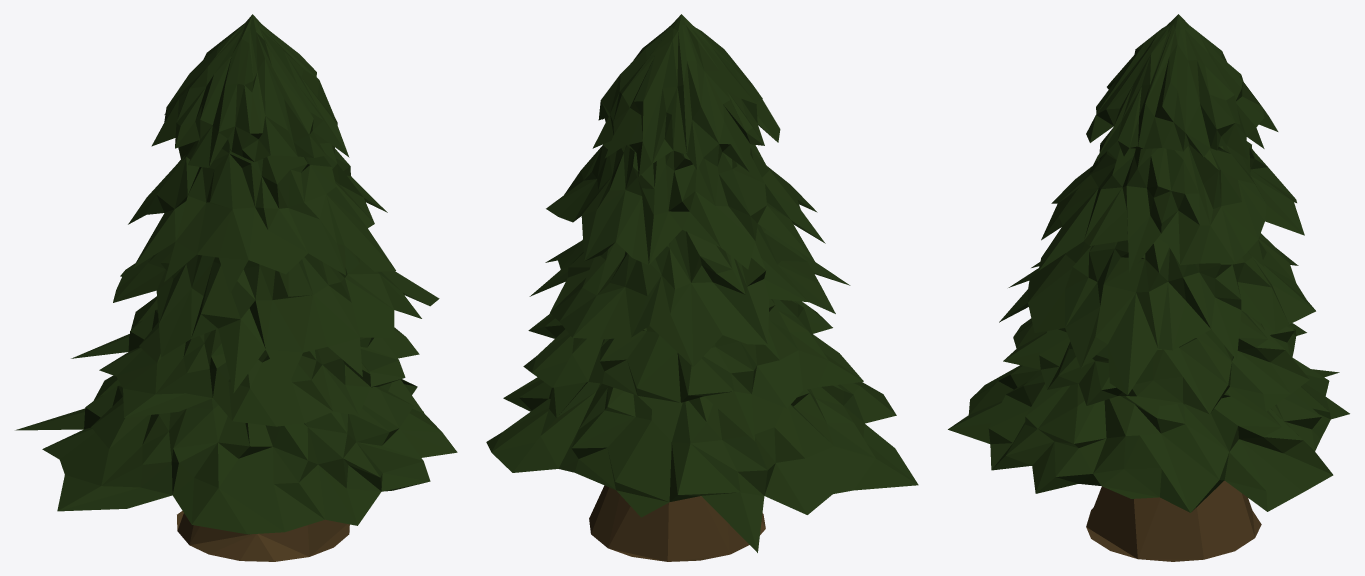
The model's file is pino-3_lowpoly.fbx.
3 renders of one model, left to right at view 1: azimuth 30°, elevation 25°; view 2: azimuth 150°, elevation 25°; view 3: azimuth 270°, elevation 25°, orthographic.
Visible parts, largest first — view 1: Cylinder.025, Cylinder.027, Cylinder.029, Cylinder.026, Cylinder.028, Cylinder.030; view 2: Cylinder.025, Cylinder.027, Cylinder.029, Cylinder.026, Cylinder.028, Cylinder.030; view 3: Cylinder.025, Cylinder.027, Cylinder.029, Cylinder.028, Cylinder.026, Cylinder.030.
Part boxes in pixels (<box>): Cylinder.025: <box>15,375,457,534</box>; Cylinder.027: <box>113,242,439,392</box>; Cylinder.029: <box>128,131,395,293</box>; Cylinder.026: <box>71,296,419,426</box>; Cylinder.028: <box>151,14,349,167</box>; Cylinder.030: <box>177,511,349,561</box>; Cylinder.025: <box>486,377,918,552</box>; Cylinder.027: <box>529,224,850,366</box>; Cylinder.029: <box>546,141,825,269</box>; Cylinder.026: <box>523,299,863,441</box>; Cylinder.028: <box>592,14,780,176</box>; Cylinder.030: <box>589,485,765,561</box>; Cylinder.025: <box>948,357,1349,512</box>; Cylinder.027: <box>999,233,1315,395</box>; Cylinder.029: <box>1038,128,1304,272</box>; Cylinder.028: <box>1086,14,1278,163</box>; Cylinder.026: <box>1003,310,1309,413</box>; Cylinder.030: <box>1086,480,1261,561</box>.
Size of the model in its own units: 3353 by 4241 by 3047.
